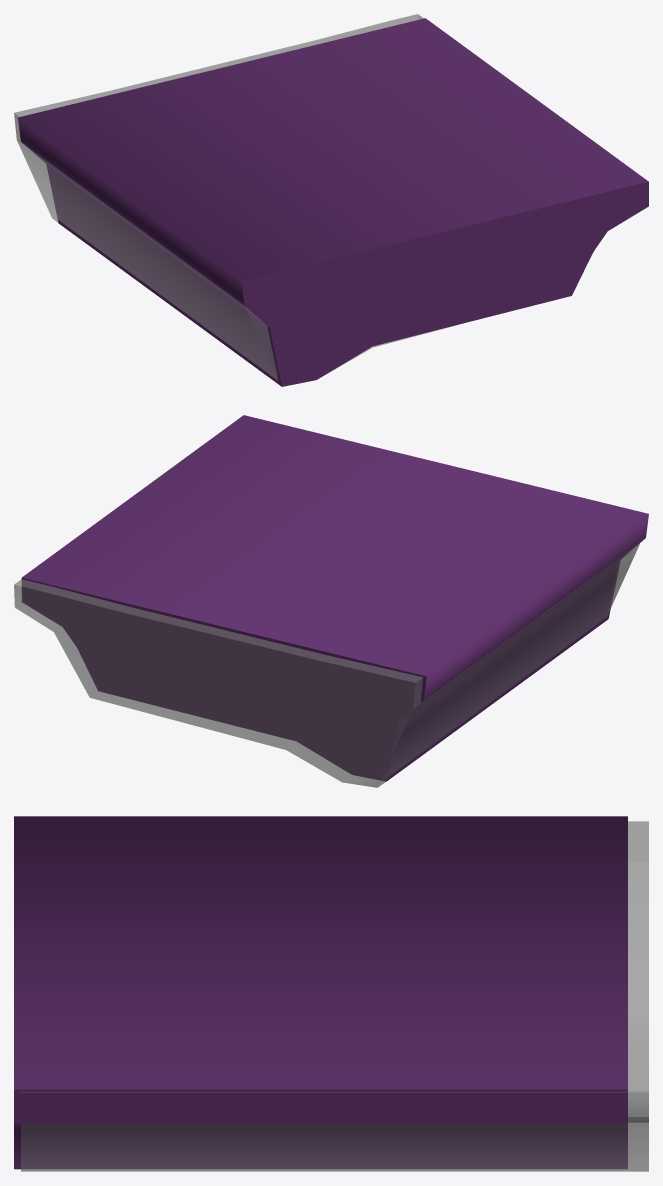
File: intro_prop(ceiling_catacombs)_01.FBX
3 views of the same model, one above another, from view 1: azimuth 30°, elevation 25°; view 2: azimuth 150°, elevation 25°; view 3: azimuth 270°, elevation 25° (orthographic). The views are drawn at different scales.
Visible parts, largest first — view 1: ceiling_catacombs001, ceiling_catacombs_colider001; view 2: ceiling_catacombs001, ceiling_catacombs_colider001; view 3: ceiling_catacombs001, ceiling_catacombs_colider001.
Boxes of the visible parts, bbox=[...] form: ceiling_catacombs001: bbox=[18, 18, 648, 386]; ceiling_catacombs_colider001: bbox=[14, 14, 594, 380]; ceiling_catacombs001: bbox=[21, 415, 648, 781]; ceiling_catacombs_colider001: bbox=[14, 543, 639, 787]; ceiling_catacombs001: bbox=[14, 816, 627, 1169]; ceiling_catacombs_colider001: bbox=[21, 821, 648, 1171].
Bounding box in the file's own units: 183 × 51.51 × 180.
